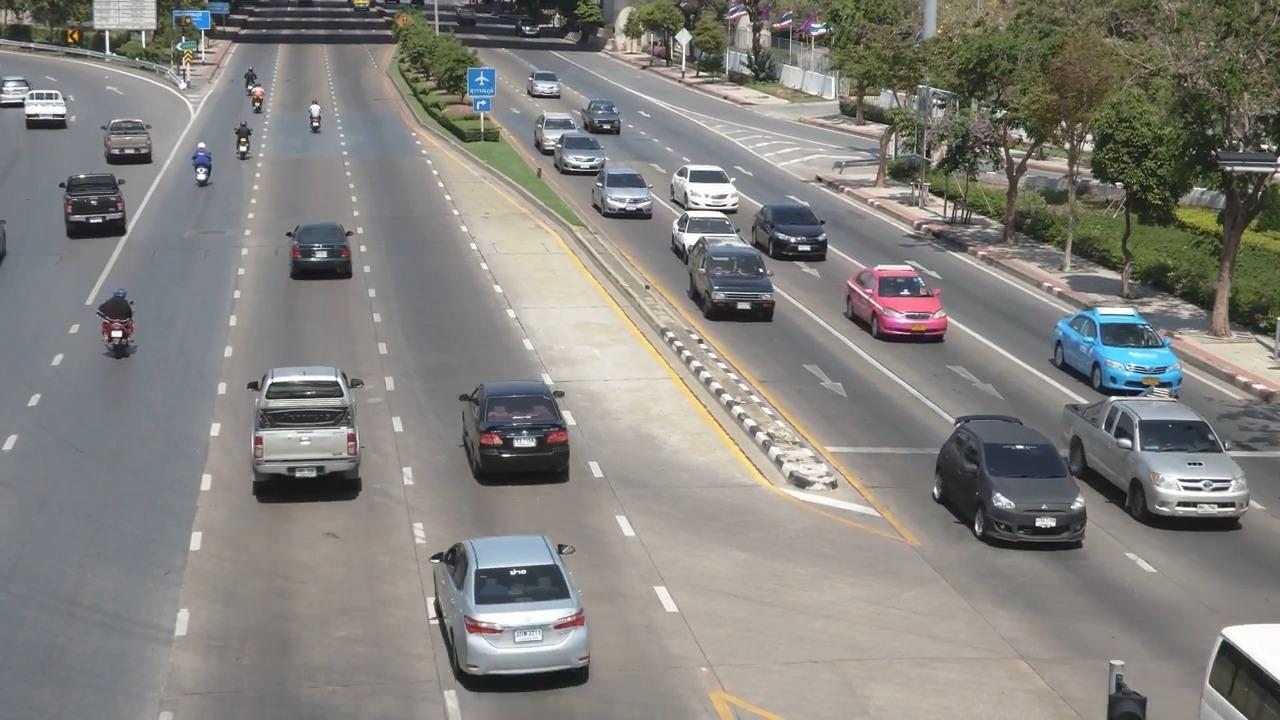CAR: (416, 530, 606, 696), (920, 400, 1108, 554), (1056, 383, 1250, 530), (237, 355, 379, 518), (1035, 296, 1193, 405), (450, 368, 587, 490), (273, 196, 379, 310), (846, 248, 964, 350), (47, 161, 145, 255), (691, 234, 787, 320), (747, 197, 834, 264), (94, 108, 172, 174), (675, 200, 749, 260), (592, 159, 660, 223), (665, 155, 740, 212), (16, 72, 78, 136), (550, 129, 604, 178), (526, 101, 579, 148), (573, 93, 626, 136), (521, 70, 561, 102)
MOTOR: (83, 274, 152, 380), (222, 112, 270, 181), (177, 137, 226, 198), (301, 84, 338, 145), (241, 79, 278, 129), (232, 54, 267, 100)
